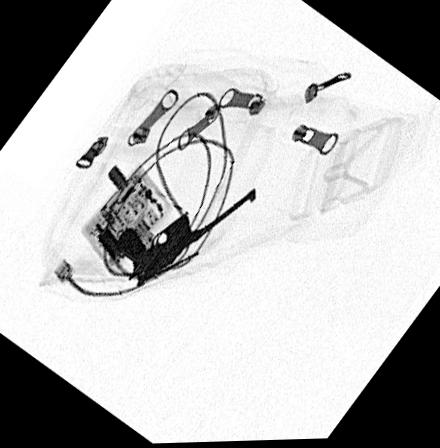Gun: (118, 189, 254, 290)
